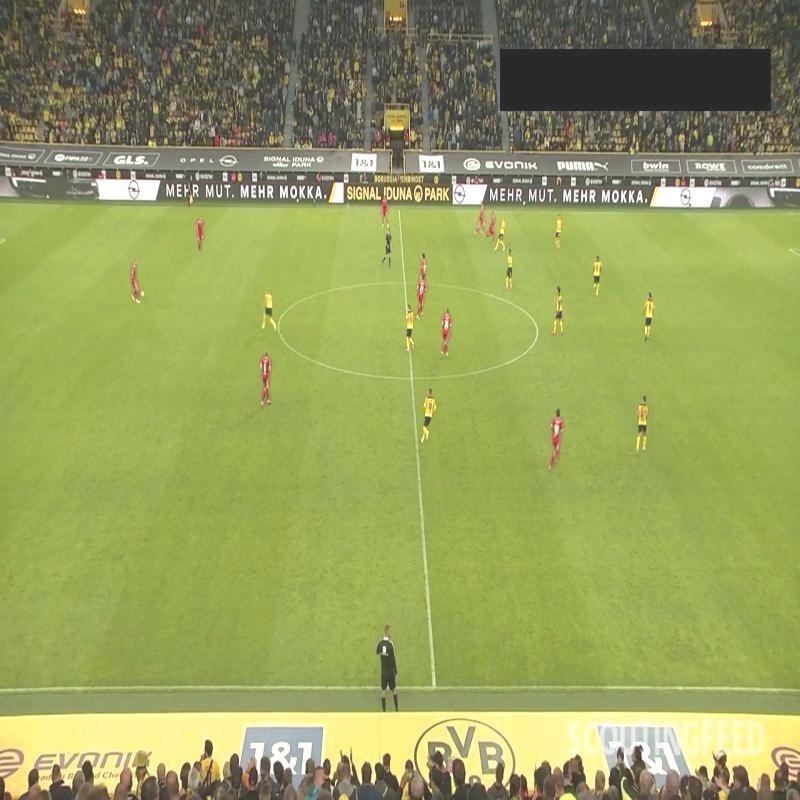13: (393, 202, 407, 215)
14: (398, 275, 412, 289)
15: (404, 371, 419, 385)
16: (424, 677, 444, 696)
9: (779, 241, 800, 257), (0, 234, 12, 247)
c: (273, 322, 287, 336), (532, 318, 544, 334)
